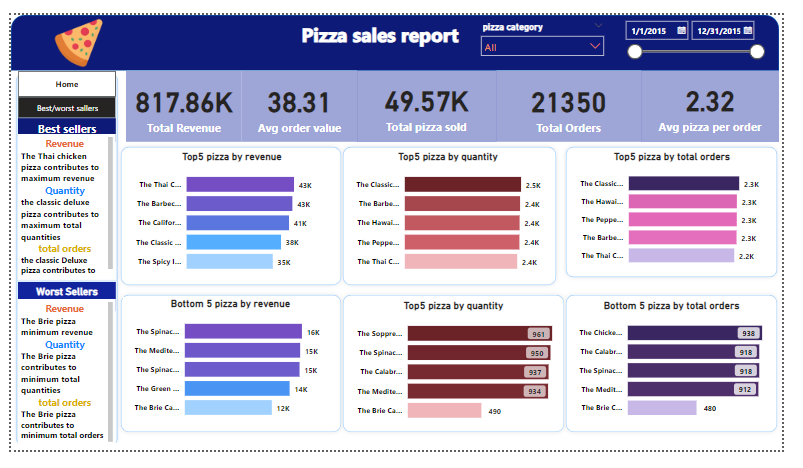

The page's visual inventory and layout, read from the dashboard file:
{"tool":"powerbi","page":{"name":"Best/worst sallers","canvas":[1285,724],"ordinal":1},"visuals":[{"type":"card","fields":{"Values":["#measures.Avg order value"]},"box":[385,93.3,191.7,118.3],"z":0},{"type":"card","fields":{"Values":["#measures.Avg pizza per order"]},"box":[1050,91.4,230,120],"z":1000},{"type":"card","fields":{"Values":["#measures.Total Orders"]},"box":[808.3,93.3,241.7,118.3],"z":2000},{"type":"card","fields":{"Values":["#measures.Total pizzas sold"]},"box":[576.7,91.7,231.7,120],"z":3000},{"type":"card","fields":{"Values":["#measures.Total Revenue"]},"box":[191.7,93.3,193.3,118.3],"z":4000},{"type":"shape","box":[0,0,1280,92.5],"z":5000},{"type":"textbox","box":[465.7,5.7,308.6,62.9],"z":6000},{"type":"image","box":[32.9,0,158.6,92.9],"z":7000},{"type":"shape","box":[175,211.7,383.3,246.7],"z":8000},{"type":"shape","box":[0,91.7,186.7,631.7],"z":18000},{"type":"textbox","box":[11.7,171.7,163.3,40],"z":19000},{"type":"textbox","box":[11.7,198.3,163.3,243.3],"z":20000},{"type":"textbox","box":[11.7,445,163.3,48.3],"z":21000},{"type":"textbox","box":[11.7,473.3,163.3,250],"z":22000},{"type":"slicer","fields":{"Values":["pizza sales.pizza_category"]},"box":[773.3,5,225,86.7],"z":23000},{"type":"slicer","fields":{"Values":["pizza sales.order_date"]},"box":[1011.7,0,253.3,91.7],"z":24000},{"type":"shape","box":[545,211.7,371.7,246.7],"z":24001},{"type":"shape","box":[916.7,211.7,368.3,233.3],"z":24002},{"type":"shape","box":[175,458.3,383.3,245],"z":24003},{"type":"shape","box":[545,458.3,385,245],"z":24004},{"type":"shape","box":[916.7,458.3,368.3,245],"z":24005},{"type":"barChart","title":"Top5 pizza by revenue ","fields":{"Category":["pizza sales.pizza_name"],"Y":["#measures.Total Revenue"]},"box":[191.7,225,353.3,216.7],"z":24006},{"type":"barChart","title":"Bottom 5 pizza by revenue ","fields":{"Category":["pizza sales.pizza_name"],"Y":["#measures.Total Revenue"]},"box":[186.7,470,358.3,215],"z":24007},{"type":"barChart","title":"Top5 pizza by quantity ","fields":{"Category":["pizza sales.pizza_name"],"Y":["#measures.Total pizza sold"]},"box":[558.3,225,340,216.7],"z":24008},{"type":"barChart","title":"Top5 pizza by quantity ","fields":{"Category":["pizza sales.pizza_name"],"Y":["#measures.Total pizza sold"]},"box":[558.3,473.3,358.3,216.7],"z":24009},{"type":"barChart","title":"Top5 pizza by total orders","fields":{"Category":["pizza sales.pizza_name"],"Y":["#measures.Total Orders"]},"box":[931.7,225,340,205],"z":24010},{"type":"barChart","title":"Bottom 5 pizza by total orders","fields":{"Category":["pizza sales.pizza_name"],"Y":["#measures.Total Orders"]},"box":[930,473.3,341.7,211.7],"z":24011},{"type":"pageNavigator","box":[11.7,136.7,163.3,35],"z":24012},{"type":"pageNavigator","box":[11.7,93.3,163.3,43.3],"z":24013}]}

Visuals, with their boxes on the page's 1285x724 design canvas (x1, y1, x2, y2). These are canvas units, not pixel positions in the 803x468 screenshot, which may show the page scaled, cropped or inside an application window:
card - #measures.Avg order value: {"left": 385, "top": 93, "right": 577, "bottom": 212}
card - #measures.Avg pizza per order: {"left": 1050, "top": 91, "right": 1280, "bottom": 211}
card - #measures.Total Orders: {"left": 808, "top": 93, "right": 1050, "bottom": 212}
card - #measures.Total pizzas sold: {"left": 577, "top": 92, "right": 808, "bottom": 212}
card - #measures.Total Revenue: {"left": 192, "top": 93, "right": 385, "bottom": 212}
shape: {"left": 0, "top": 0, "right": 1280, "bottom": 92}
textbox: {"left": 466, "top": 6, "right": 774, "bottom": 69}
image: {"left": 33, "top": 0, "right": 192, "bottom": 93}
shape: {"left": 175, "top": 212, "right": 558, "bottom": 458}
shape: {"left": 0, "top": 92, "right": 187, "bottom": 723}
textbox: {"left": 12, "top": 172, "right": 175, "bottom": 212}
textbox: {"left": 12, "top": 198, "right": 175, "bottom": 442}
textbox: {"left": 12, "top": 445, "right": 175, "bottom": 493}
textbox: {"left": 12, "top": 473, "right": 175, "bottom": 723}
slicer - pizza sales.pizza_category: {"left": 773, "top": 5, "right": 998, "bottom": 92}
slicer - pizza sales.order_date: {"left": 1012, "top": 0, "right": 1265, "bottom": 92}
shape: {"left": 545, "top": 212, "right": 917, "bottom": 458}
shape: {"left": 917, "top": 212, "right": 1285, "bottom": 445}
shape: {"left": 175, "top": 458, "right": 558, "bottom": 703}
shape: {"left": 545, "top": 458, "right": 930, "bottom": 703}
shape: {"left": 917, "top": 458, "right": 1285, "bottom": 703}
"Top5 pizza by revenue " barChart: {"left": 192, "top": 225, "right": 545, "bottom": 442}
"Bottom 5 pizza by revenue " barChart: {"left": 187, "top": 470, "right": 545, "bottom": 685}
"Top5 pizza by quantity " barChart: {"left": 558, "top": 225, "right": 898, "bottom": 442}
"Top5 pizza by quantity " barChart: {"left": 558, "top": 473, "right": 917, "bottom": 690}
"Top5 pizza by total orders" barChart: {"left": 932, "top": 225, "right": 1272, "bottom": 430}
"Bottom 5 pizza by total orders" barChart: {"left": 930, "top": 473, "right": 1272, "bottom": 685}
pageNavigator: {"left": 12, "top": 137, "right": 175, "bottom": 172}
pageNavigator: {"left": 12, "top": 93, "right": 175, "bottom": 137}
